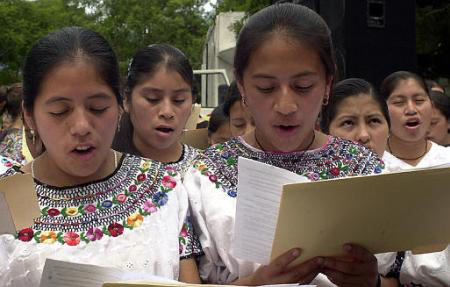Face: (31, 79, 124, 172), (242, 59, 332, 153), (129, 77, 197, 148), (329, 101, 388, 163), (385, 86, 431, 141), (424, 99, 448, 150), (230, 100, 257, 140)
